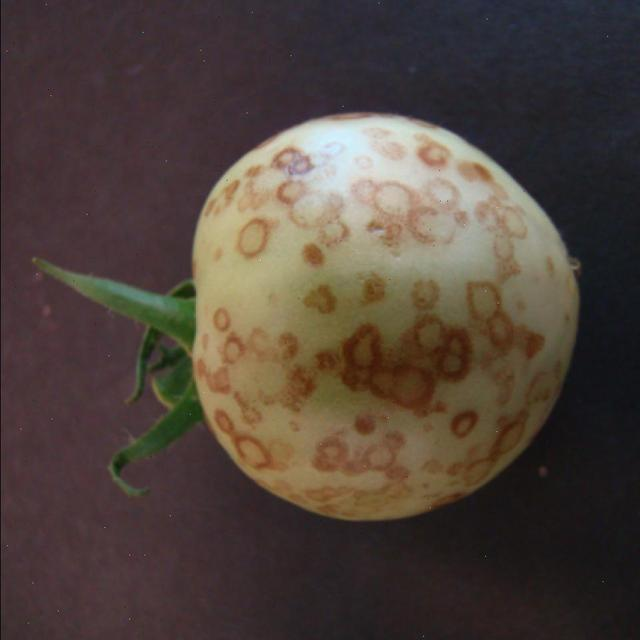Spotted wilt Virus Fruit: (125, 72, 389, 348)
